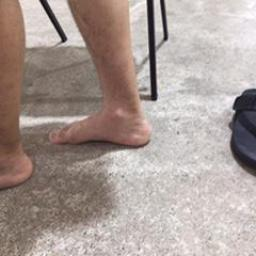Medial View -Right Foot-: (42, 84, 154, 160)
